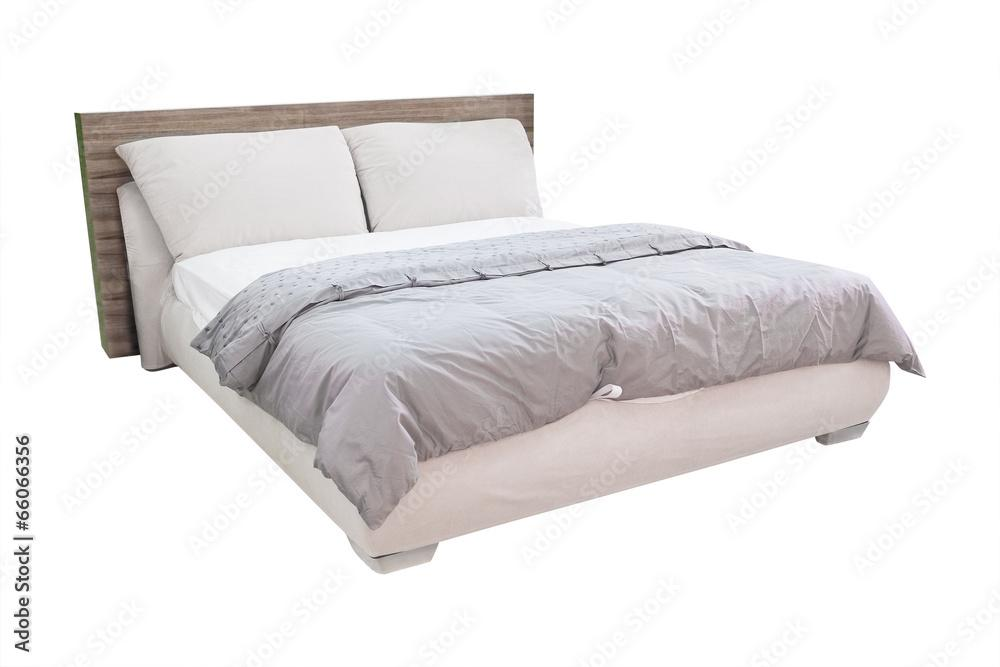bed: (63, 79, 881, 497)
